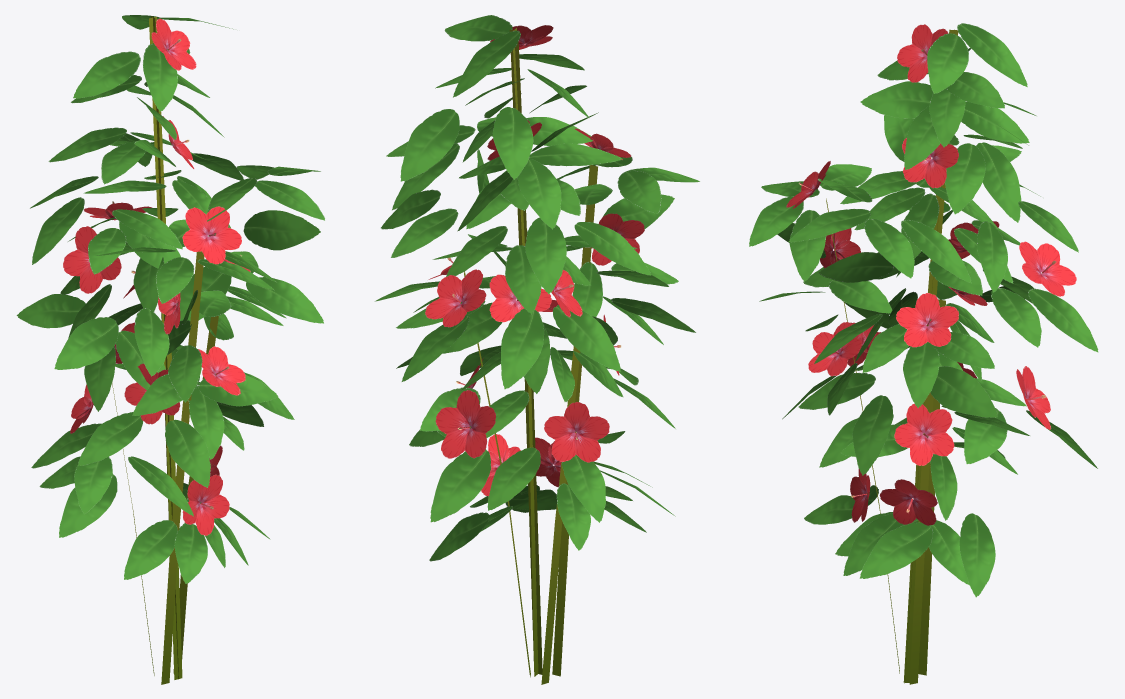
The model's file is hibiscus_tree.fbx.
The picture shows the model from 3 angles, left to right: view 1: azimuth 30°, elevation 25°; view 2: azimuth 150°, elevation 25°; view 3: azimuth 270°, elevation 25°; orthographic projection. The views are drawn at different scales.
Visible parts, largest first — view 1: hibiscus_tree; view 2: hibiscus_tree; view 3: hibiscus_tree.
Part boxes in pixels (x1,y1,x2,y2): hibiscus_tree: (16, 15, 324, 684); hibiscus_tree: (374, 15, 699, 684); hibiscus_tree: (749, 23, 1098, 684).
Size of the model in its own units: 4.42 by 9.16 by 4.76.
